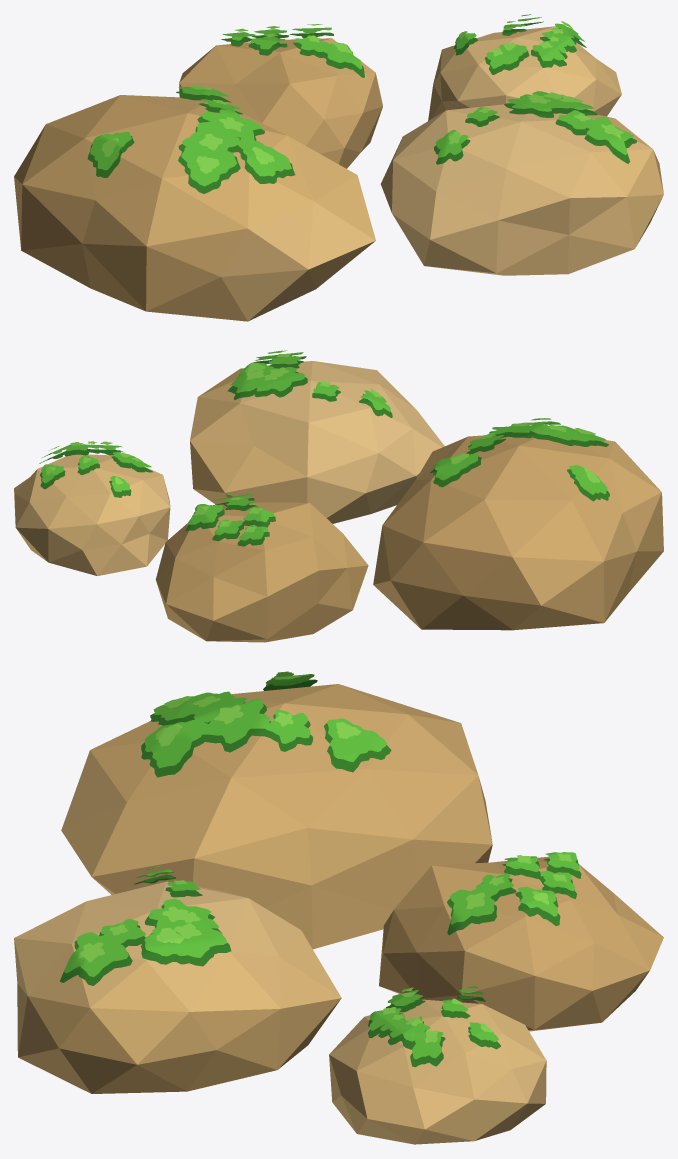
Rendered from rock_8_dots.glb.
3 renders of one model, top to bottom at view 1: azimuth 30°, elevation 25°; view 2: azimuth 150°, elevation 25°; view 3: azimuth 270°, elevation 25°, orthographic. The views are drawn at different scales.
Parts seen in each view (by area): view 1: rock_8_dots; view 2: rock_8_dots; view 3: rock_8_dots.
Boxes of the visible parts, bbox=[...] form: rock_8_dots: bbox=[14, 14, 663, 321]; rock_8_dots: bbox=[14, 350, 663, 642]; rock_8_dots: bbox=[14, 671, 663, 1144].
Bounding box in the file's own units: 1.32 × 0.3405 × 1.02.
